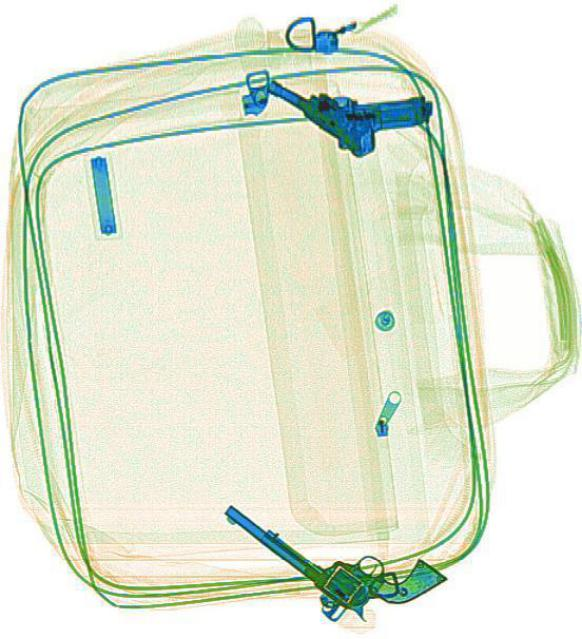Gun: (223, 445, 436, 637), (256, 23, 436, 177)
